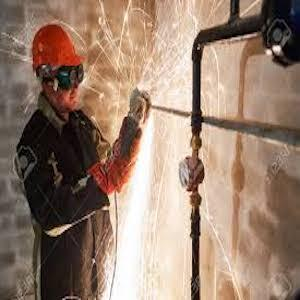heat: (124, 52, 162, 292)
safety: (34, 24, 81, 68)
